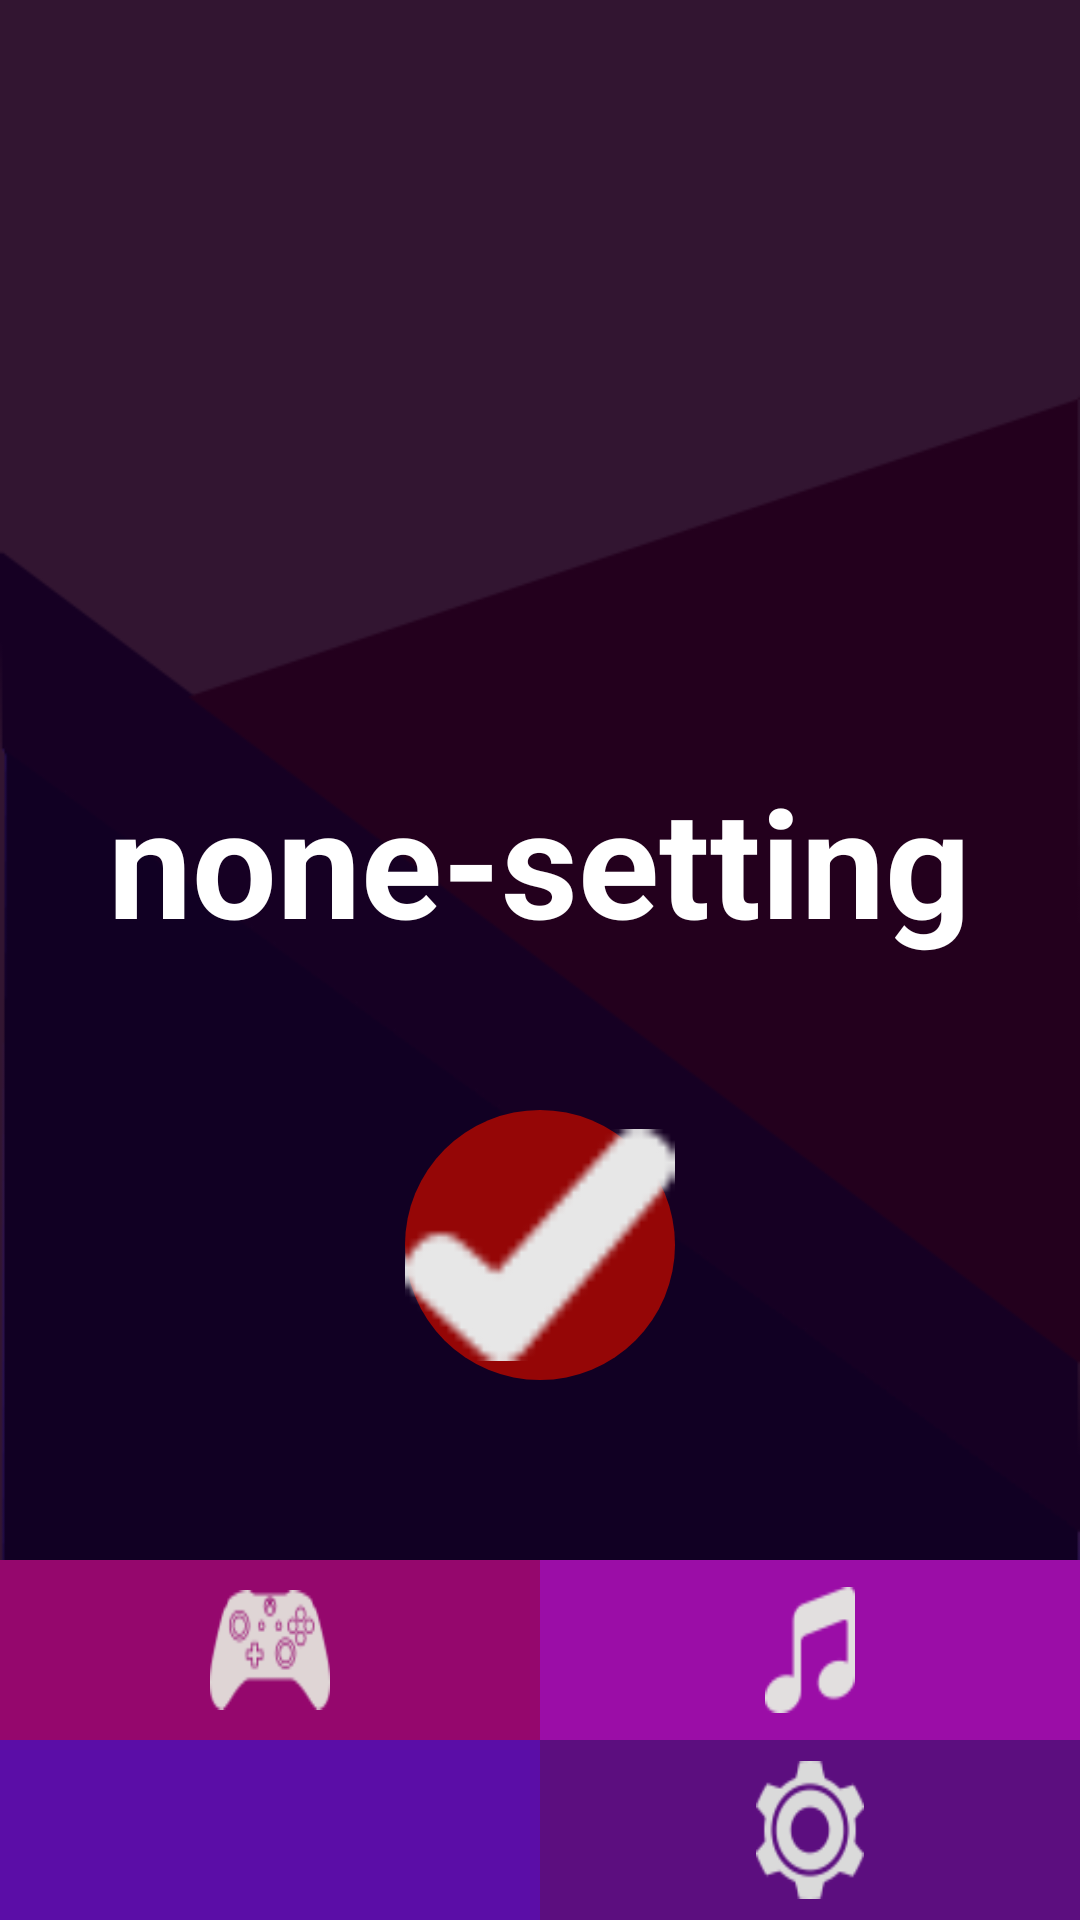

Icon click points for this 1080 × 1920 phone screenshot, format point (x, y):
savebuttonicon: point (540, 1245)
